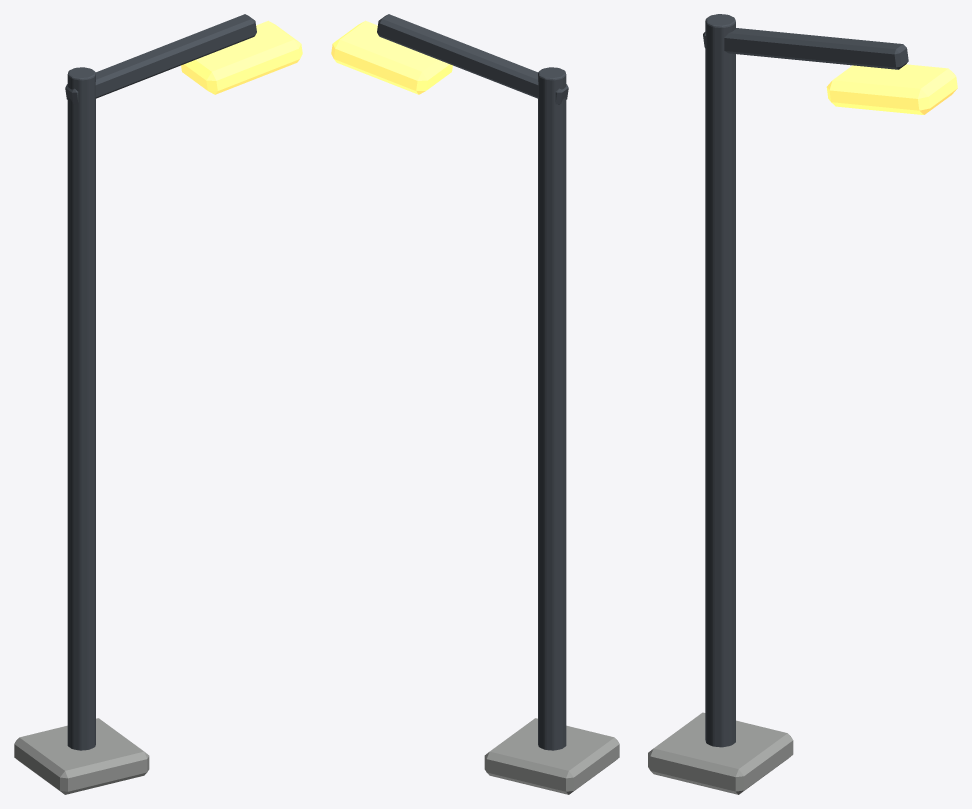
Rendered from la-streetlight.glb.
The picture shows the model from 3 angles, left to right: view 1: azimuth 30°, elevation 25°; view 2: azimuth 150°, elevation 25°; view 3: azimuth 330°, elevation 25°; orthographic projection. The views are drawn at different scales.
Visible parts, largest first — view 1: Streetlight_Pole, Streetlight_Base, Streetlight_Lamp, Streetlight_Arm; view 2: Streetlight_Pole, Streetlight_Base, Streetlight_Lamp, Streetlight_Arm; view 3: Streetlight_Pole, Streetlight_Base, Streetlight_Lamp, Streetlight_Arm.
Part boxes in pixels (left/top/right/bottom): Streetlight_Pole: left=67, top=67, right=95, bottom=750; Streetlight_Base: left=14, top=718, right=149, bottom=794; Streetlight_Lamp: left=181, top=20, right=302, bottom=94; Streetlight_Arm: left=65, top=14, right=256, bottom=104; Streetlight_Pole: left=538, top=67, right=566, bottom=750; Streetlight_Base: left=484, top=718, right=619, bottom=794; Streetlight_Lamp: left=331, top=20, right=452, bottom=94; Streetlight_Arm: left=377, top=14, right=568, bottom=104; Streetlight_Pole: left=705, top=14, right=735, bottom=747; Streetlight_Base: left=648, top=712, right=793, bottom=794; Streetlight_Lamp: left=826, top=64, right=957, bottom=114; Streetlight_Arm: left=703, top=28, right=908, bottom=69.
Bounding box in the file's own units: 1.98 × 5.32 × 0.7.
